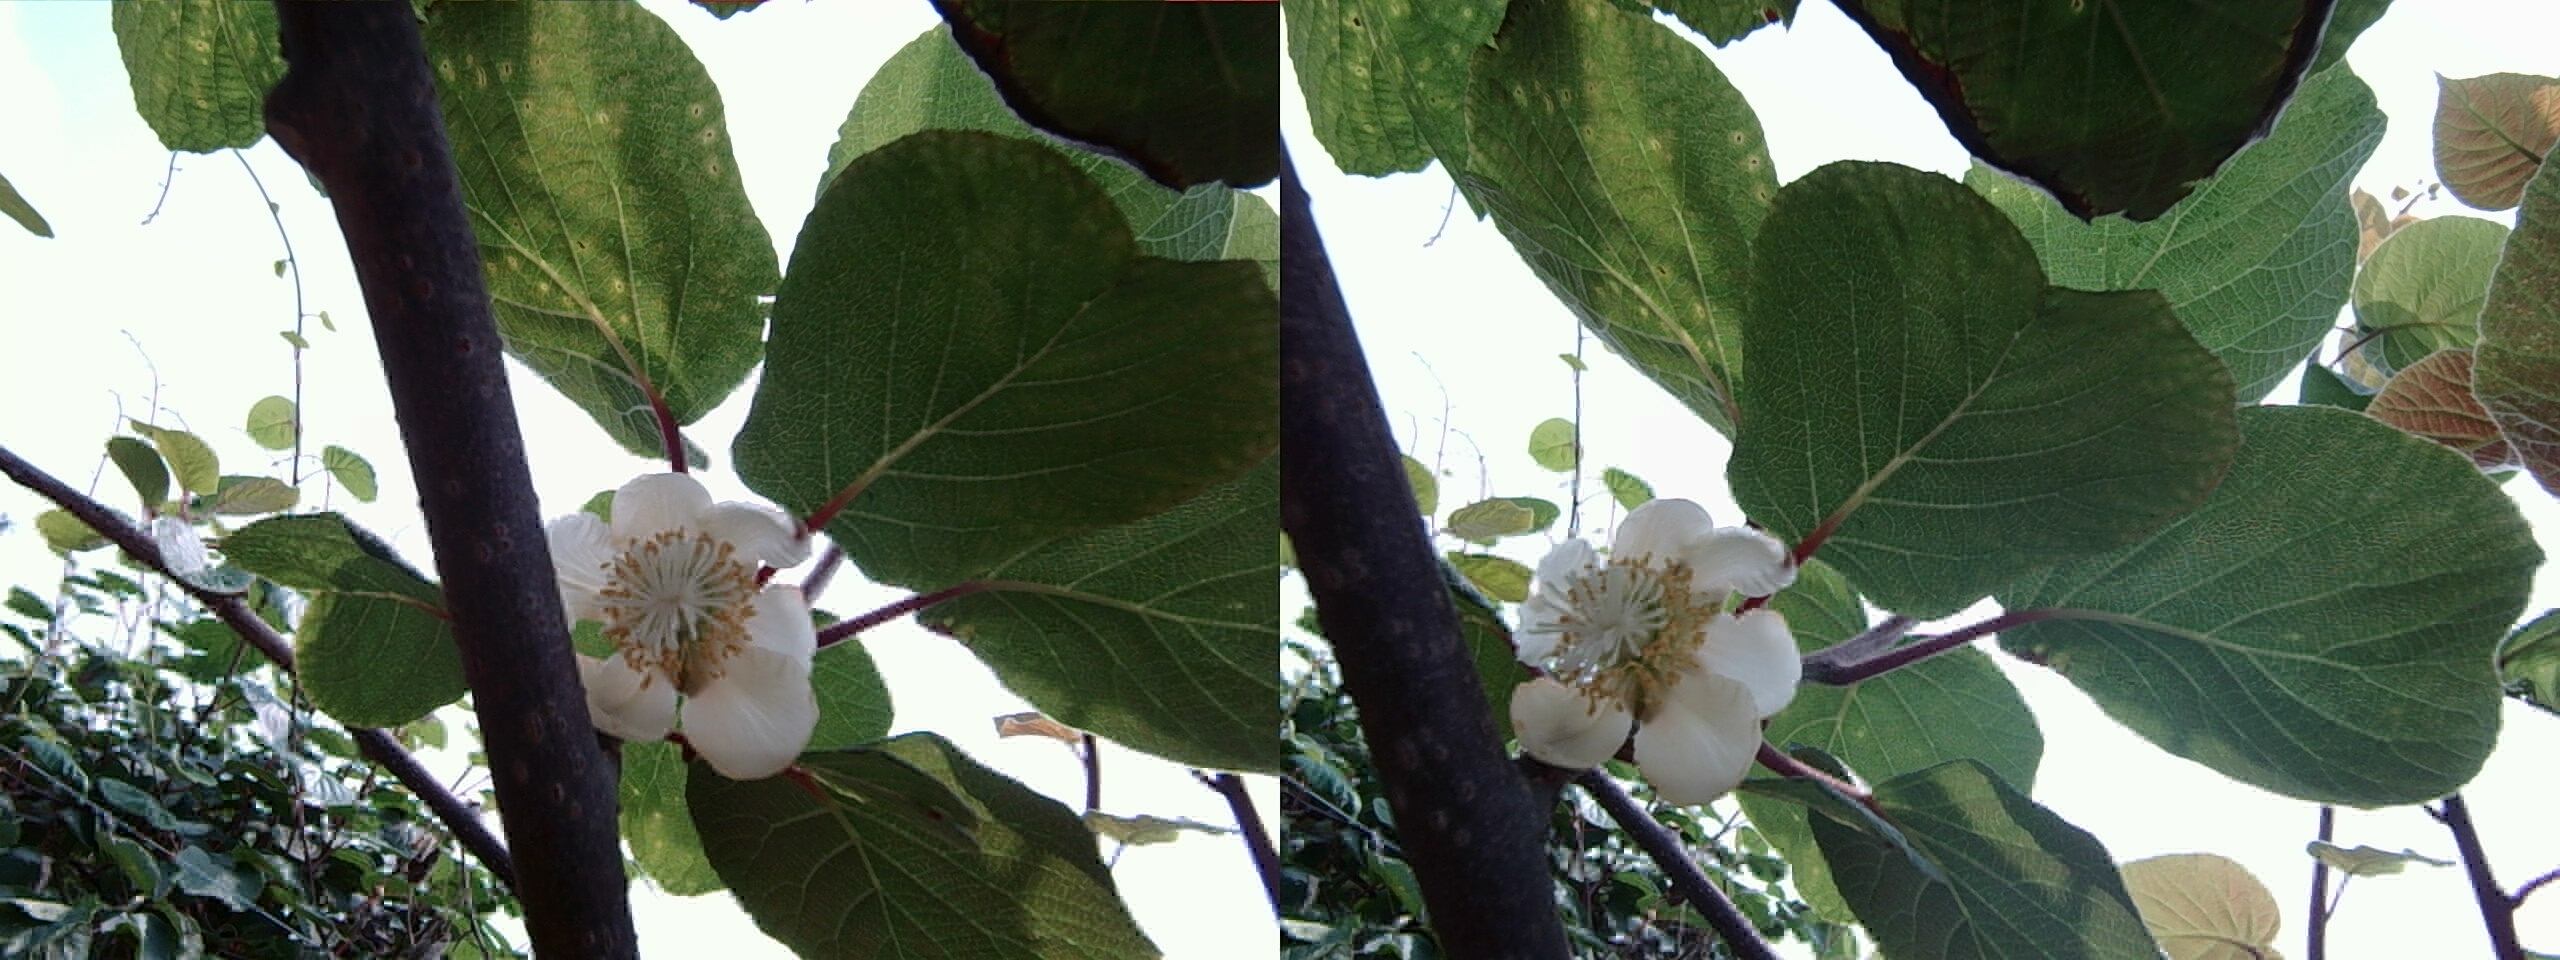flower: (1497, 482, 1789, 782), (552, 454, 820, 740)
